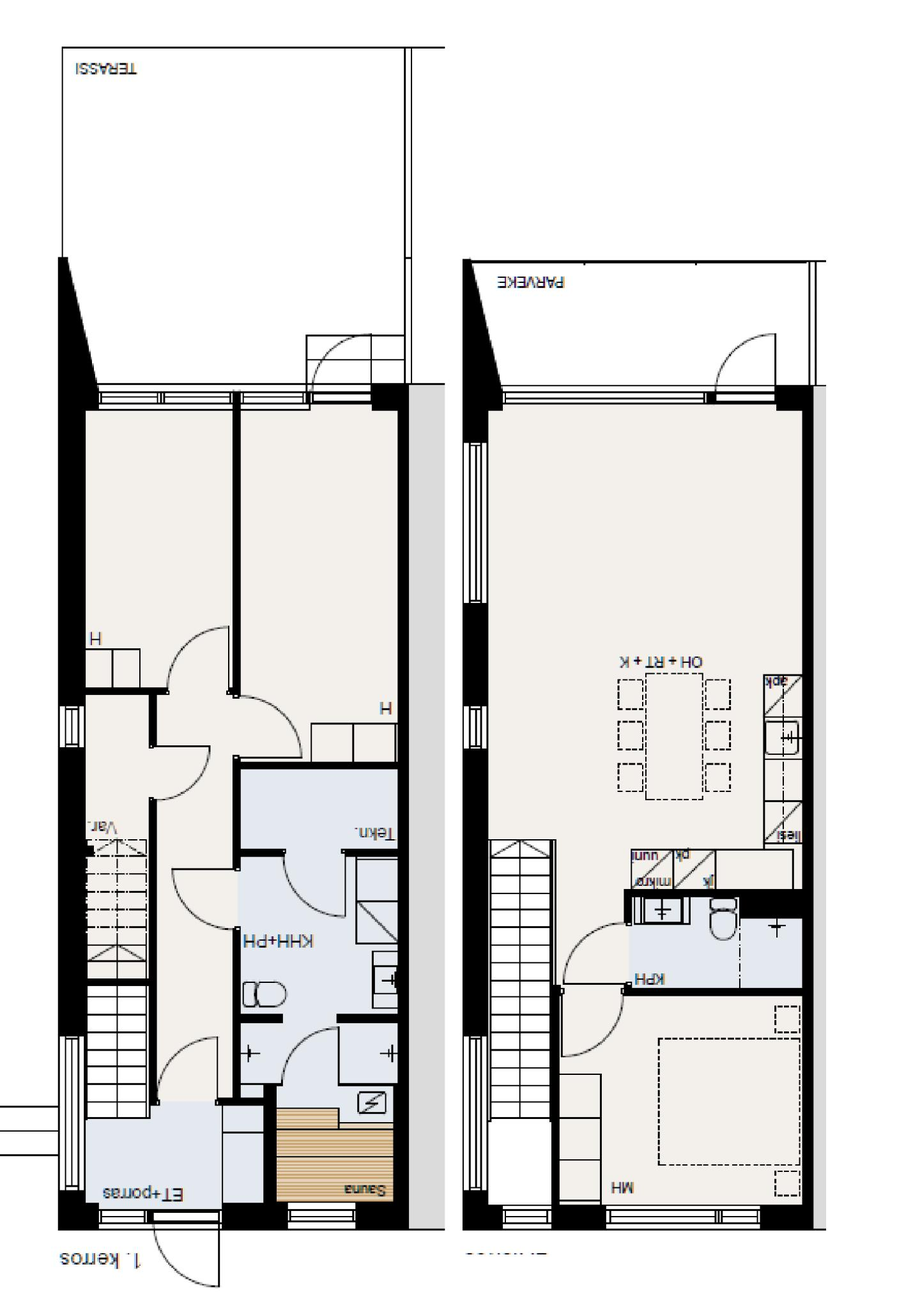door: (559, 909, 630, 1072), (714, 325, 789, 418), (154, 1210, 229, 1296), (158, 617, 233, 696), (304, 333, 378, 406), (232, 692, 310, 758), (156, 1033, 226, 1106), (287, 847, 350, 922), (173, 863, 234, 932), (147, 740, 212, 795)
window: (504, 389, 705, 411), (463, 437, 489, 603), (59, 1041, 84, 1192), (96, 384, 230, 409), (465, 1040, 488, 1183), (604, 1206, 763, 1226), (240, 387, 307, 414), (291, 1206, 358, 1231), (58, 709, 85, 751), (101, 1206, 148, 1228), (502, 1210, 548, 1228), (468, 701, 482, 749)
zone: (487, 407, 804, 1199), (88, 760, 399, 1205), (63, 44, 405, 380), (85, 407, 395, 759), (466, 254, 809, 382)
